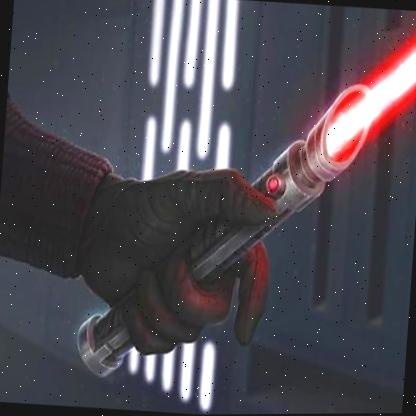sith_lightsaber: (64, 0, 416, 412)
